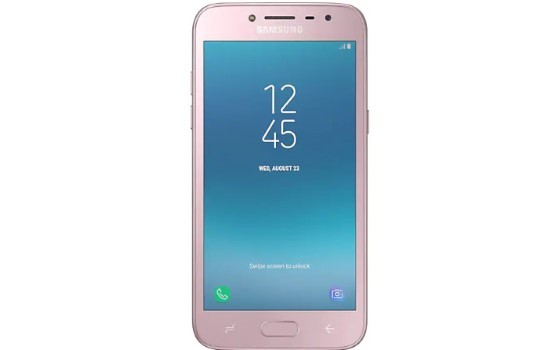Handphone: (187, 1, 373, 350)
